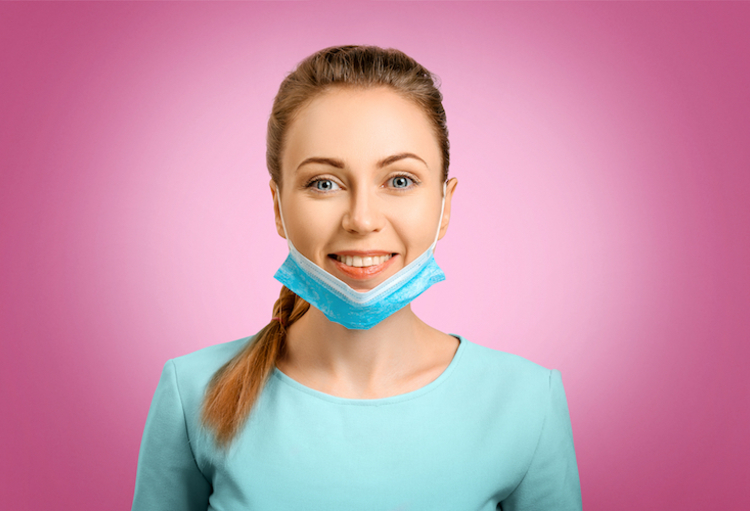with_incorrect_mask: (275, 123, 446, 309)
